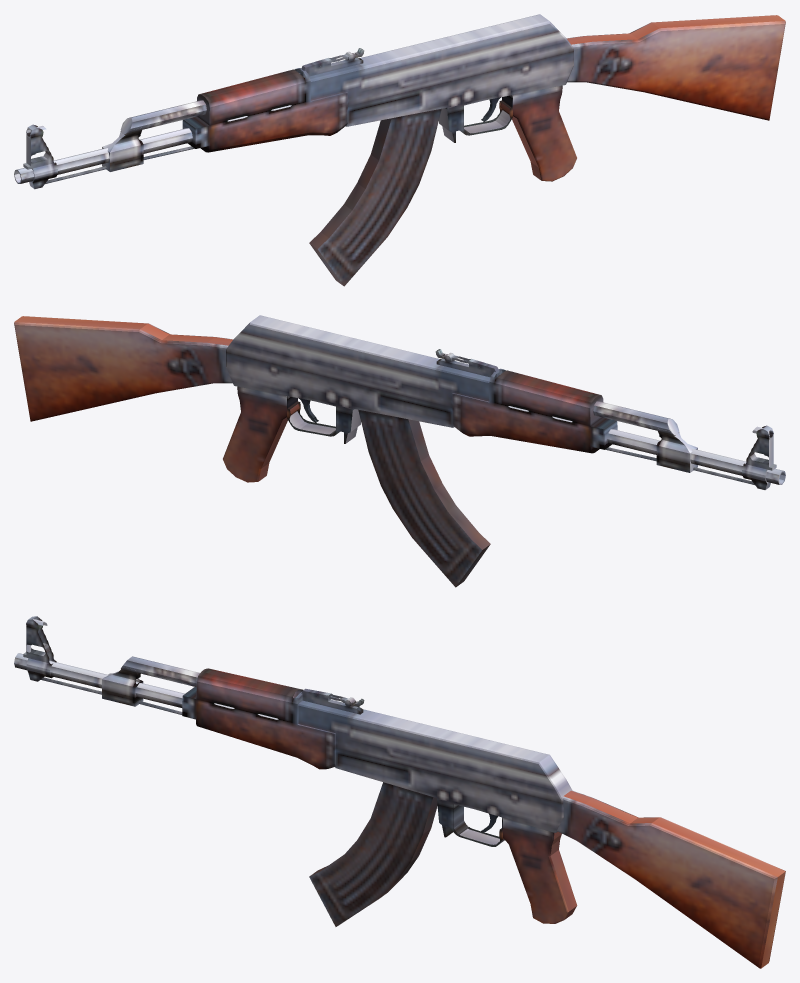
The picture shows the model from 3 angles, top to bottom: view 1: azimuth 30°, elevation 25°; view 2: azimuth 150°, elevation 25°; view 3: azimuth 330°, elevation 25°; orthographic projection.
Visible parts, largest first — view 1: Upper, Magazine; view 2: Upper, Magazine; view 3: Upper, Magazine.
Part boxes in pixels (x1,y1,x2,y2): Upper: (14,14,785,189); Magazine: (309,108,441,286); Upper: (14,315,785,489); Magazine: (358,409,490,587); Upper: (14,616,785,968); Magazine: (309,782,437,926).
Size of the model in its own units: 457 by 133 by 13.45.
1 material, 1 textured.
